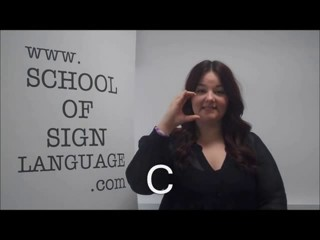C: (165, 88, 200, 128)
